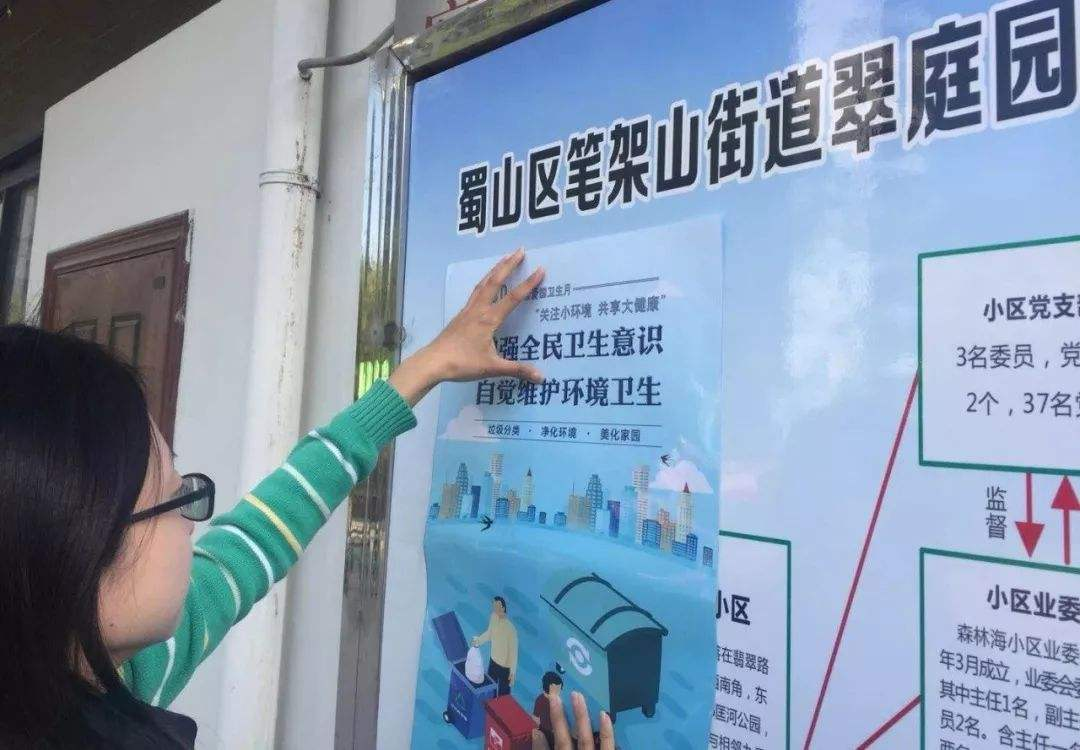bill: (407, 214, 725, 749)
